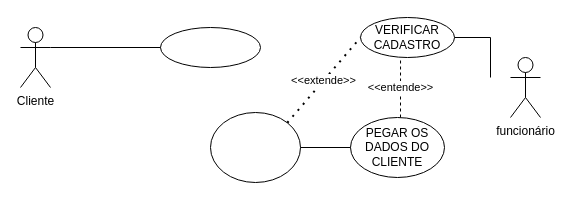
Image size: 572x200. Some labels were removed from this diagram. The shapes that lost their labels are listed below. From the top down, each one's centre as x and y in pixels, then its label:
point (210, 47): INFORMAR CPF
point (255, 147): RESERVAR O CARRO
